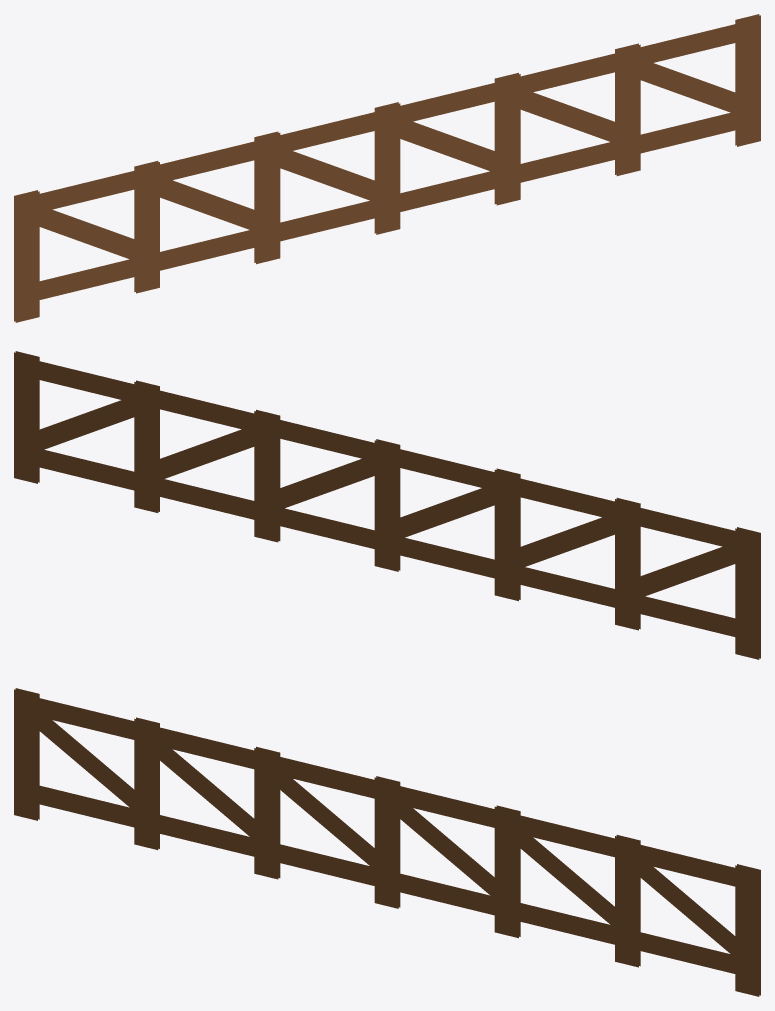
File: FenceA6mLOD2.fbx
3 views of the same model, one above another, from view 1: azimuth 30°, elevation 25°; view 2: azimuth 150°, elevation 25°; view 3: azimuth 330°, elevation 25° (orthographic).
Parts seen in each view (by area): view 1: FenceA6mLOD2; view 2: FenceA6mLOD2; view 3: FenceA6mLOD2.
Part boxes in pixels (x1=…): FenceA6mLOD2: x1=14, y1=14, x2=760, y2=322; FenceA6mLOD2: x1=14, y1=351, x2=760, y2=659; FenceA6mLOD2: x1=14, y1=688, x2=760, y2=996.
Size of the model in its own units: 620 by 100 by 2.47.
